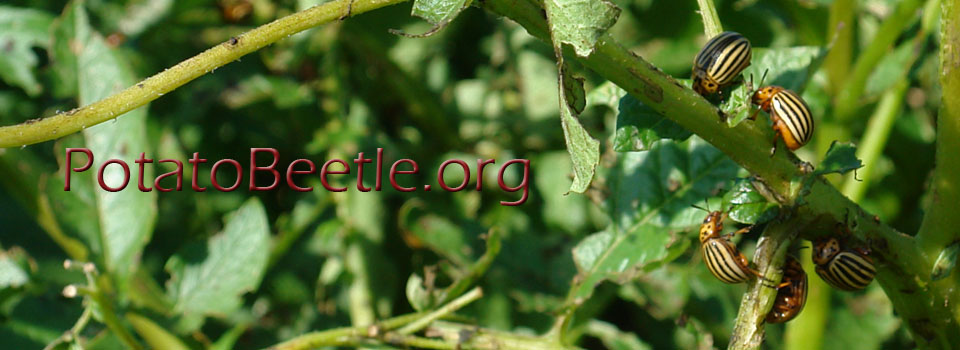hrosc: (695, 205, 756, 295), (684, 27, 750, 104), (809, 227, 881, 295), (753, 76, 809, 153)
